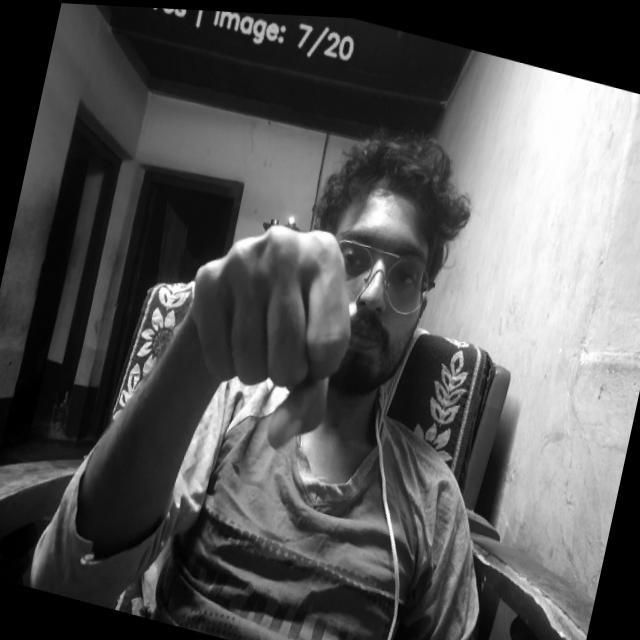Yes: (168, 195, 367, 458)
